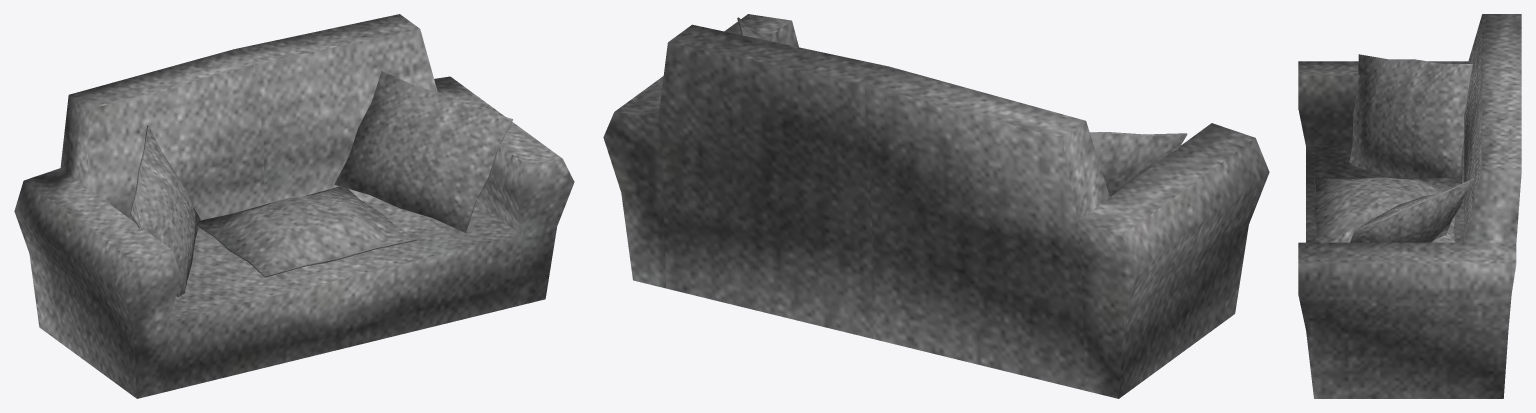
File: couch.glb
3 renders of one model, left to right at view 1: azimuth 30°, elevation 25°; view 2: azimuth 150°, elevation 25°; view 3: azimuth 270°, elevation 25°, orthographic. The views are drawn at different scales.
Parts seen in each view (by area): view 1: Couch, pillow.001, pillow, pillow.002; view 2: Couch, pillow.002; view 3: Couch, pillow.002, pillow, pillow.001.
Part boxes in pixels (box(x1,y1,x2,y2)): Couch: box(14, 14, 574, 398); pillow.001: box(334, 71, 512, 232); pillow: box(196, 186, 417, 277); pillow.002: box(130, 125, 200, 296); Couch: box(603, 14, 1269, 398); pillow.002: box(1090, 132, 1187, 196); Couch: box(1298, 14, 1521, 398); pillow.002: box(1349, 54, 1472, 183); pillow: box(1314, 177, 1455, 242); pillow.001: box(1350, 178, 1474, 243).
Bounding box in the file's own units: 6.38 × 3 × 2.83.
Materials: 2 (2 with a texture image).
